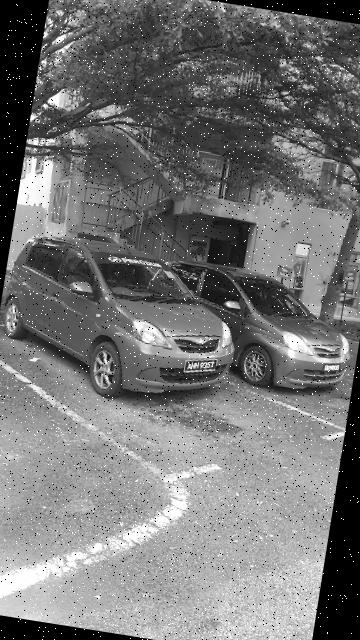License_Plate: (181, 356, 225, 381), (321, 361, 350, 378)
car: (1, 229, 251, 418), (141, 251, 360, 403)
